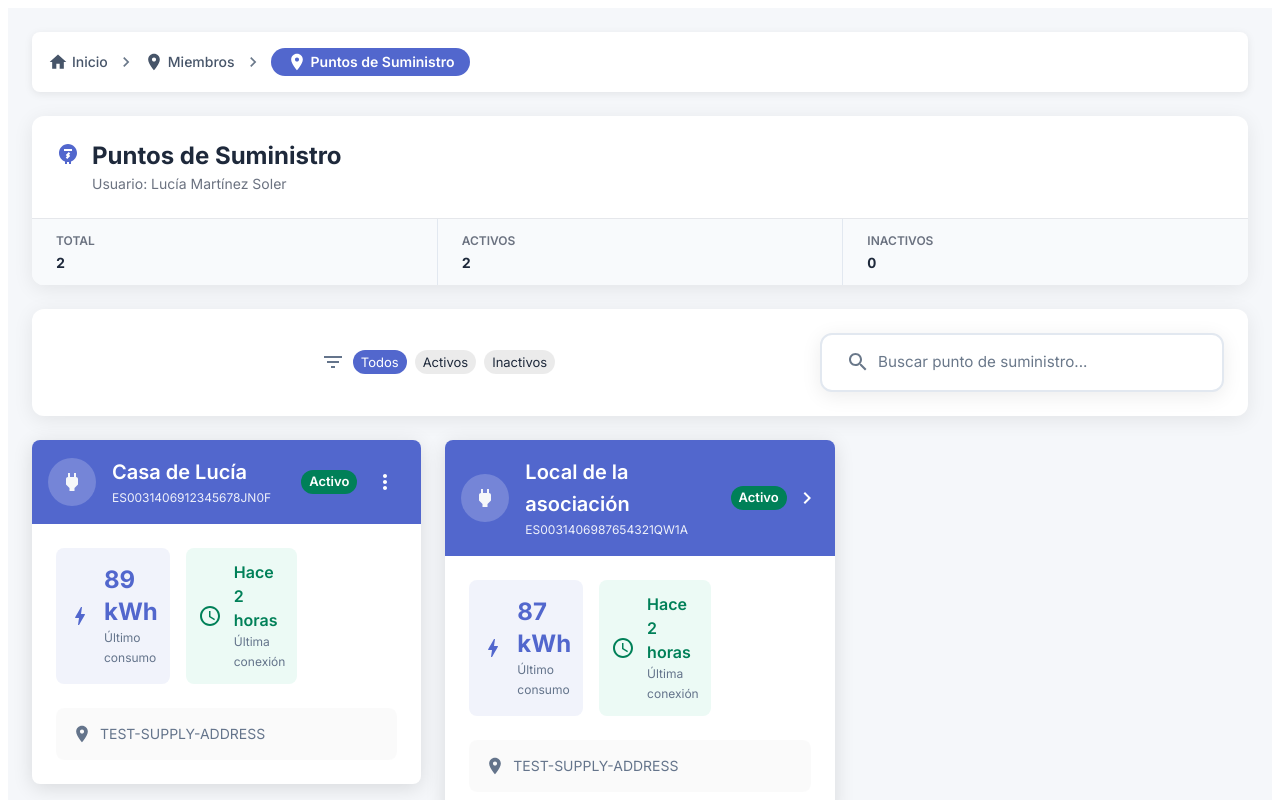
Test: deleting a supply from its card menu › from a member's supplies › UI-SUP-003 sends the deletion, and the supply leaves the list while the rest stay
Expected: the heading "Casa de Lucía" is shown, [112,460,247,484]
Click the button named "Más acciones para Casa de Lucía".
click(385, 482)  # box [365,462,405,502]
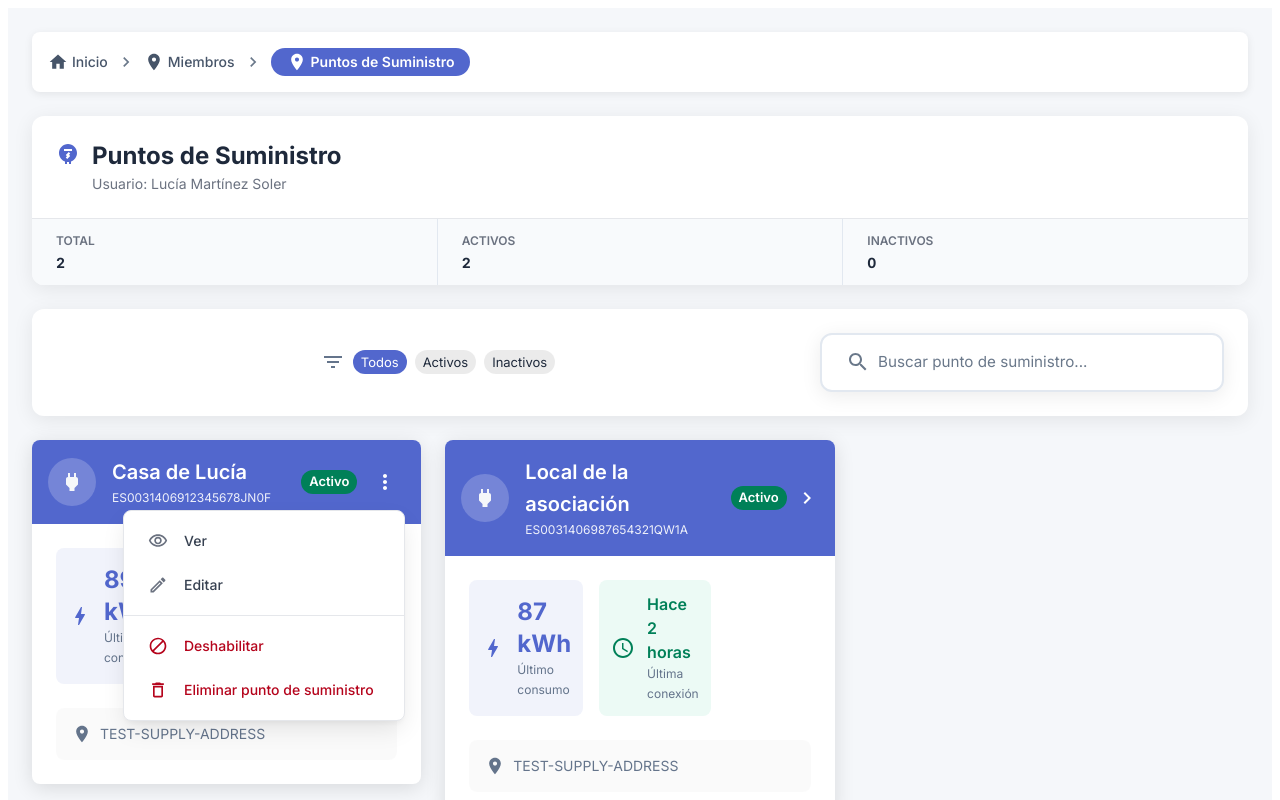
Click the menu item "Eliminar punto de suministro".
click(261, 690)  # box [148,680,374,700]
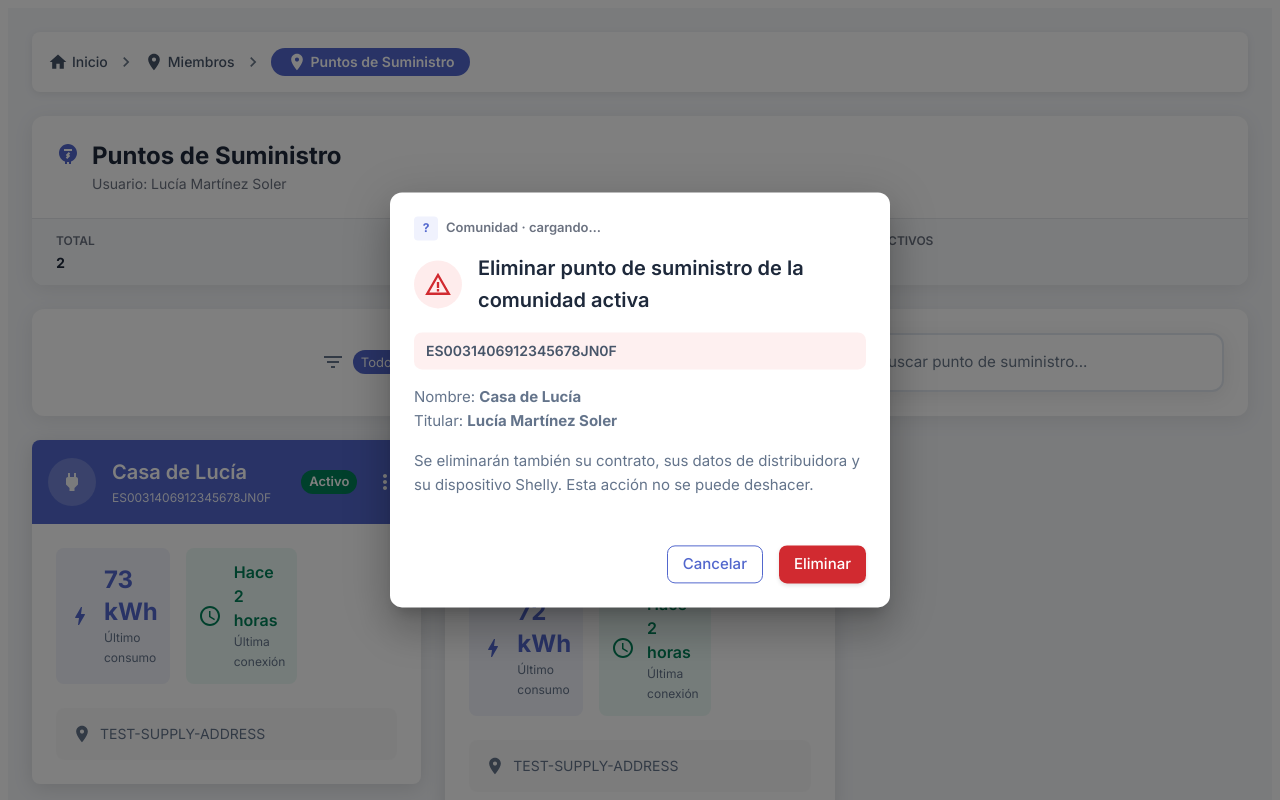
Click the button "Eliminar".
click(822, 565)  # box [779,545,866,584]
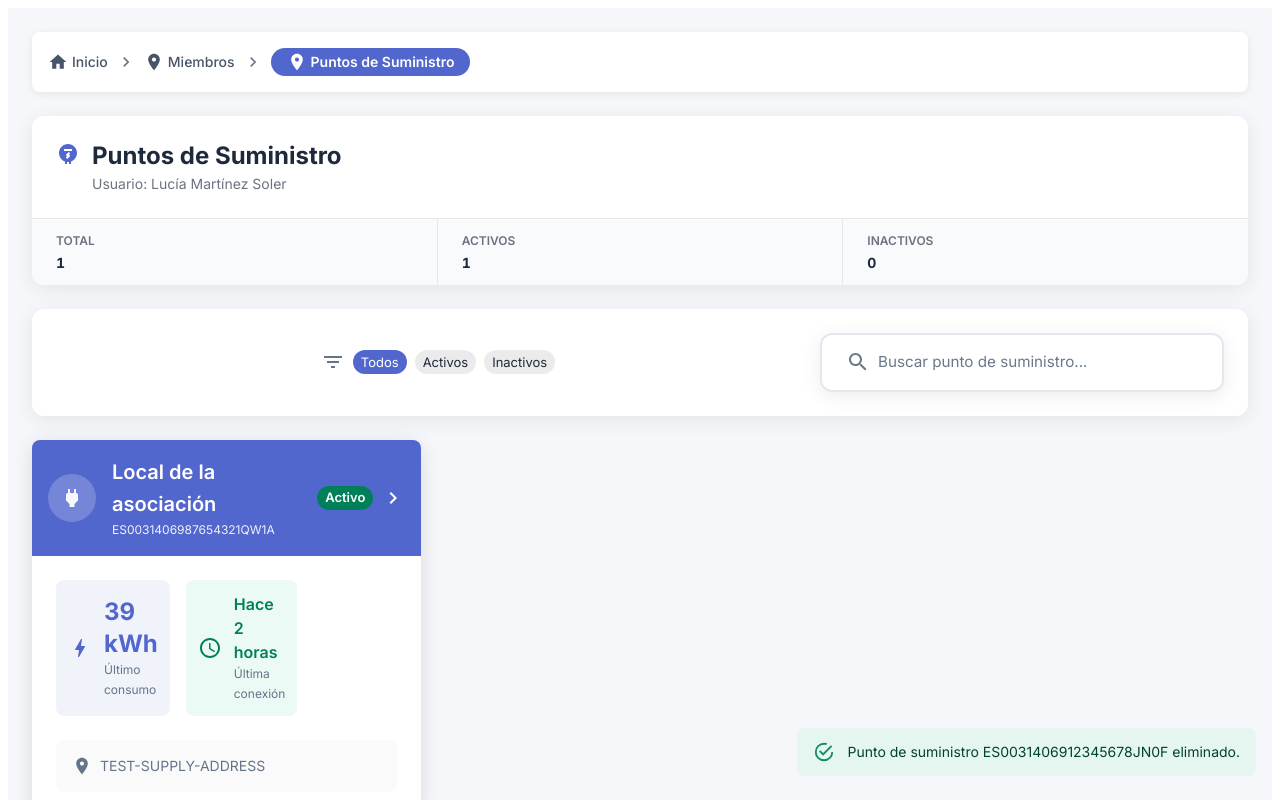
Expected: the heading "Local de la asociación" is shown, [112,460,216,516]
Now the heading "Casa de Lucía" is gone
Now the text "Punto de suministro ES0031406912345678JN0F eliminado." is shown, box [848,743,1240,760]
